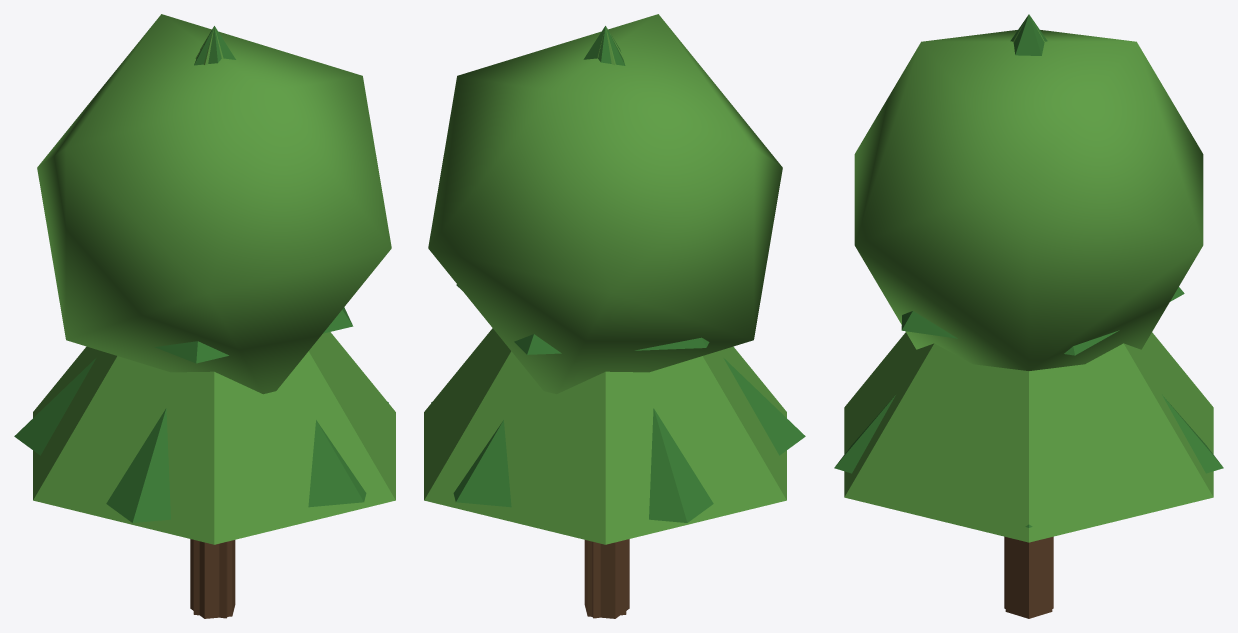
File: Kit_Tree.glb
3 renders of one model, left to right at view 1: azimuth 30°, elevation 25°; view 2: azimuth 150°, elevation 25°; view 3: azimuth 270°, elevation 25°, orthographic.
Visible parts, largest first — view 1: Kit_Tree_Round, Kit_Tree_ConiferLight, Kit_Tree_Conifer; view 2: Kit_Tree_Round, Kit_Tree_ConiferLight, Kit_Tree_Conifer; view 3: Kit_Tree_Round, Kit_Tree_ConiferLight, Kit_Tree_Conifer.
Boxes of the visible parts, x1,y1,x2,y2 form: Kit_Tree_Round: [37, 14, 391, 618]; Kit_Tree_ConiferLight: [33, 27, 395, 618]; Kit_Tree_Conifer: [14, 26, 388, 618]; Kit_Tree_Round: [428, 14, 782, 618]; Kit_Tree_ConiferLight: [424, 27, 786, 618]; Kit_Tree_Conifer: [431, 26, 805, 618]; Kit_Tree_Round: [854, 30, 1203, 608]; Kit_Tree_ConiferLight: [844, 16, 1213, 618]; Kit_Tree_Conifer: [834, 14, 1223, 608].
Bounding box in the file's own units: 10.4 × 16 × 9.51.
